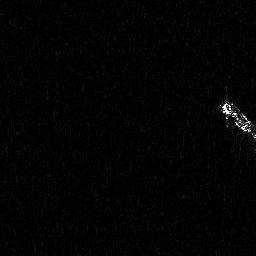ship: (217, 95, 256, 142)
